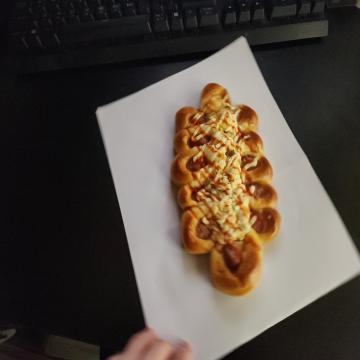pizza_bread: (171, 84, 280, 300)
